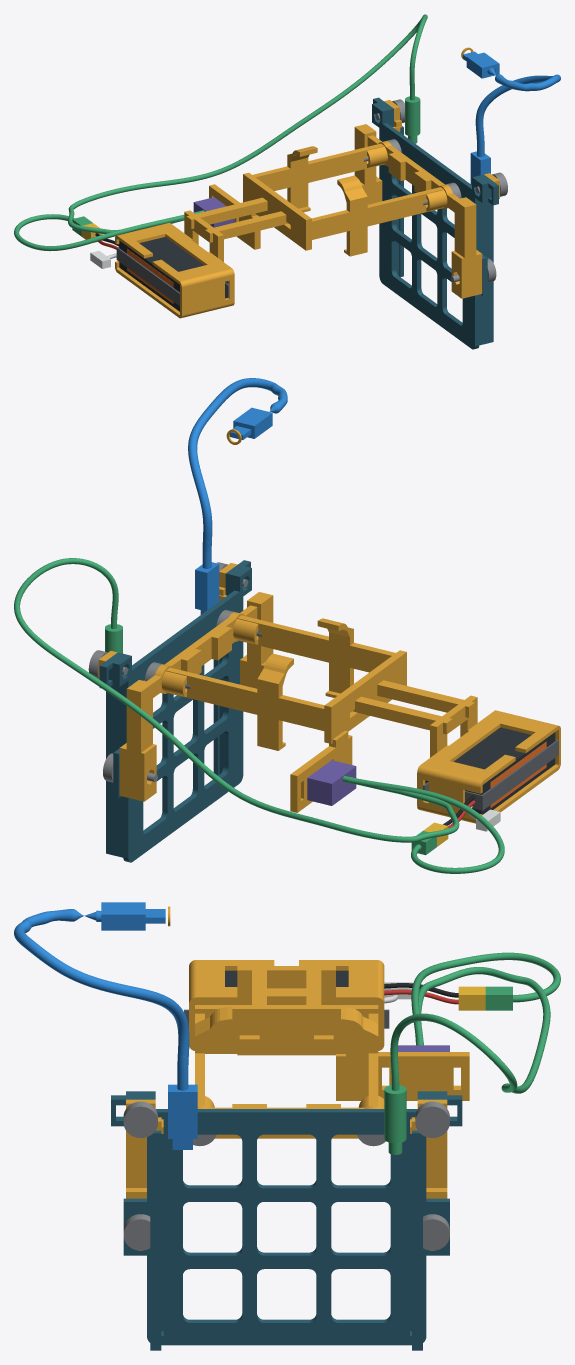
File: easy_mount_assembly.glb
3 views of the same model, one above another, from view 1: azimuth 30°, elevation 25°; view 2: azimuth 150°, elevation 25°; view 3: azimuth 270°, elevation 25° (orthographic). The views are drawn at different scales.
Visible parts, largest first — view 1: easy_mount_assembly (×9); view 2: easy_mount_assembly (×9); view 3: easy_mount_assembly (×6).
Part boxes in pixels (x1,y1,x2,y2): easy_mount_assembly (×9): (14, 14, 560, 349); easy_mount_assembly (×9): (14, 378, 560, 873); easy_mount_assembly (×6): (14, 902, 560, 1350).
Size of the model in its own units: 0.2743 by 0.194 by 0.2212.
